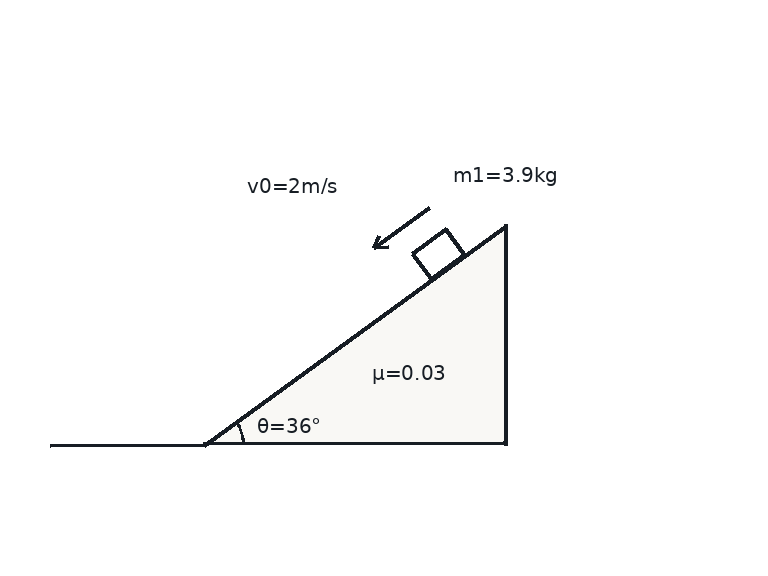block: (410, 227, 466, 281)
ramp: (201, 223, 507, 446)
